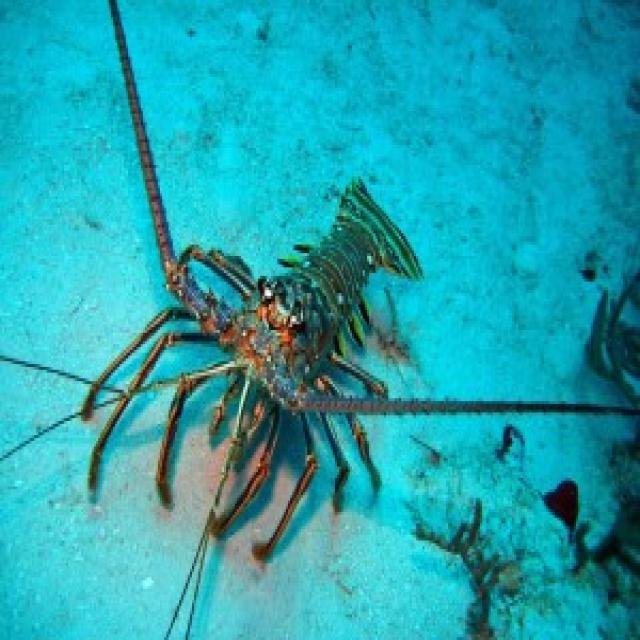lobsters: (49, 41, 640, 580)
